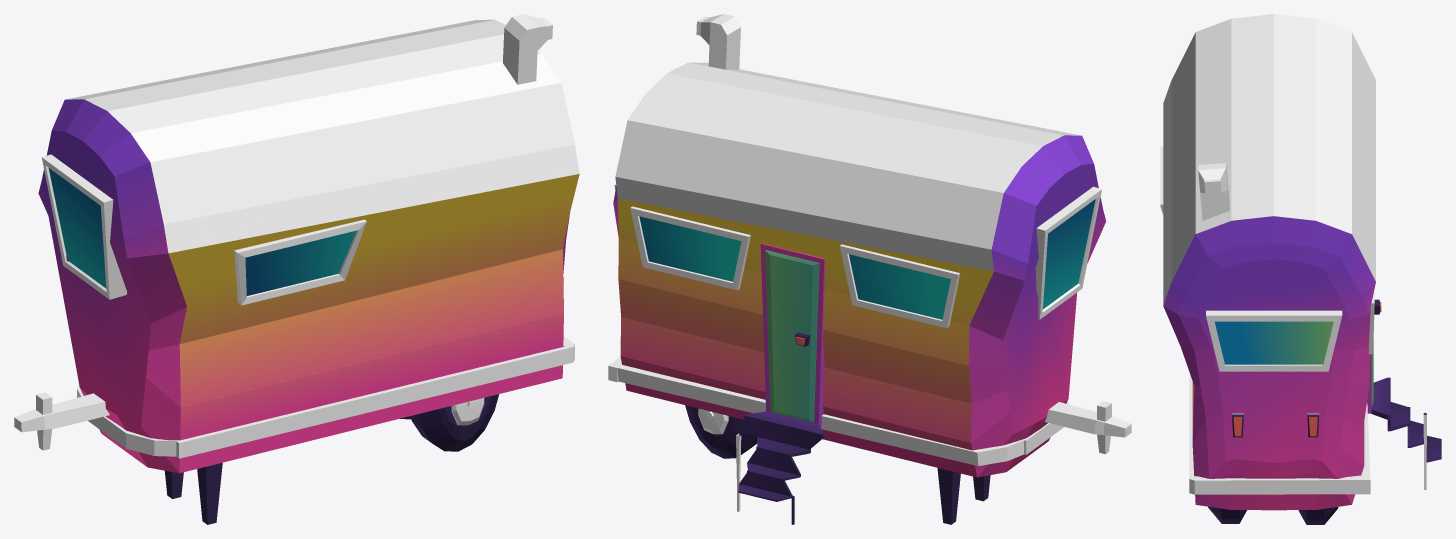
File: SM_Caravan.fbx
3 renders of one model, left to right at view 1: azimuth 30°, elevation 25°; view 2: azimuth 150°, elevation 25°; view 3: azimuth 270°, elevation 25°, orthographic. The views are drawn at different scales.
Parts seen in each view (by area): view 1: CaravanBody, StructureSupport, LWindow, FrontWindow, TowHitch, Vent, LTyre, Cube.002, LWheel; view 2: CaravanBody, Door, StructureSupport, RRWindow, RFWindow, FrontWindow, CaravanSteps, TowHitch, Vent, RTyre, Cube.003; view 3: CaravanBody, RearWindow, StructureSupport, CaravanSteps, Vent, RTyre, LTyre.
Boxes of the visible parts, bbox=[...] form: CaravanBody: bbox=[38, 19, 579, 473]; StructureSupport: bbox=[77, 336, 574, 458]; LWindow: bbox=[234, 219, 366, 305]; FrontWindow: bbox=[41, 154, 127, 299]; TowHitch: bbox=[14, 392, 109, 450]; Vent: bbox=[502, 14, 552, 84]; LTyre: bbox=[410, 394, 498, 451]; Cube.002: bbox=[197, 462, 222, 524]; LWheel: bbox=[451, 398, 484, 425]; CaravanBody: bbox=[613, 62, 1106, 477]; Door: bbox=[760, 243, 824, 426]; StructureSupport: bbox=[608, 357, 1068, 465]; RRWindow: bbox=[630, 206, 750, 290]; RFWindow: bbox=[840, 244, 960, 328]; FrontWindow: bbox=[1035, 186, 1101, 319]; CaravanSteps: bbox=[736, 411, 823, 524]; TowHitch: bbox=[1044, 401, 1131, 454]; Vent: bbox=[696, 14, 740, 69]; RTyre: bbox=[685, 405, 756, 458]; Cube.003: bbox=[937, 468, 960, 524]; CaravanBody: bbox=[1163, 14, 1375, 510]; RearWindow: bbox=[1206, 310, 1342, 371]; StructureSupport: bbox=[1189, 372, 1370, 494]; CaravanSteps: bbox=[1371, 377, 1441, 489]; Vent: bbox=[1198, 163, 1229, 220]; RTyre: bbox=[1298, 507, 1338, 524]; LTyre: bbox=[1208, 506, 1246, 523].
Bounding box in the file's own units: 413 × 808 × 650.
